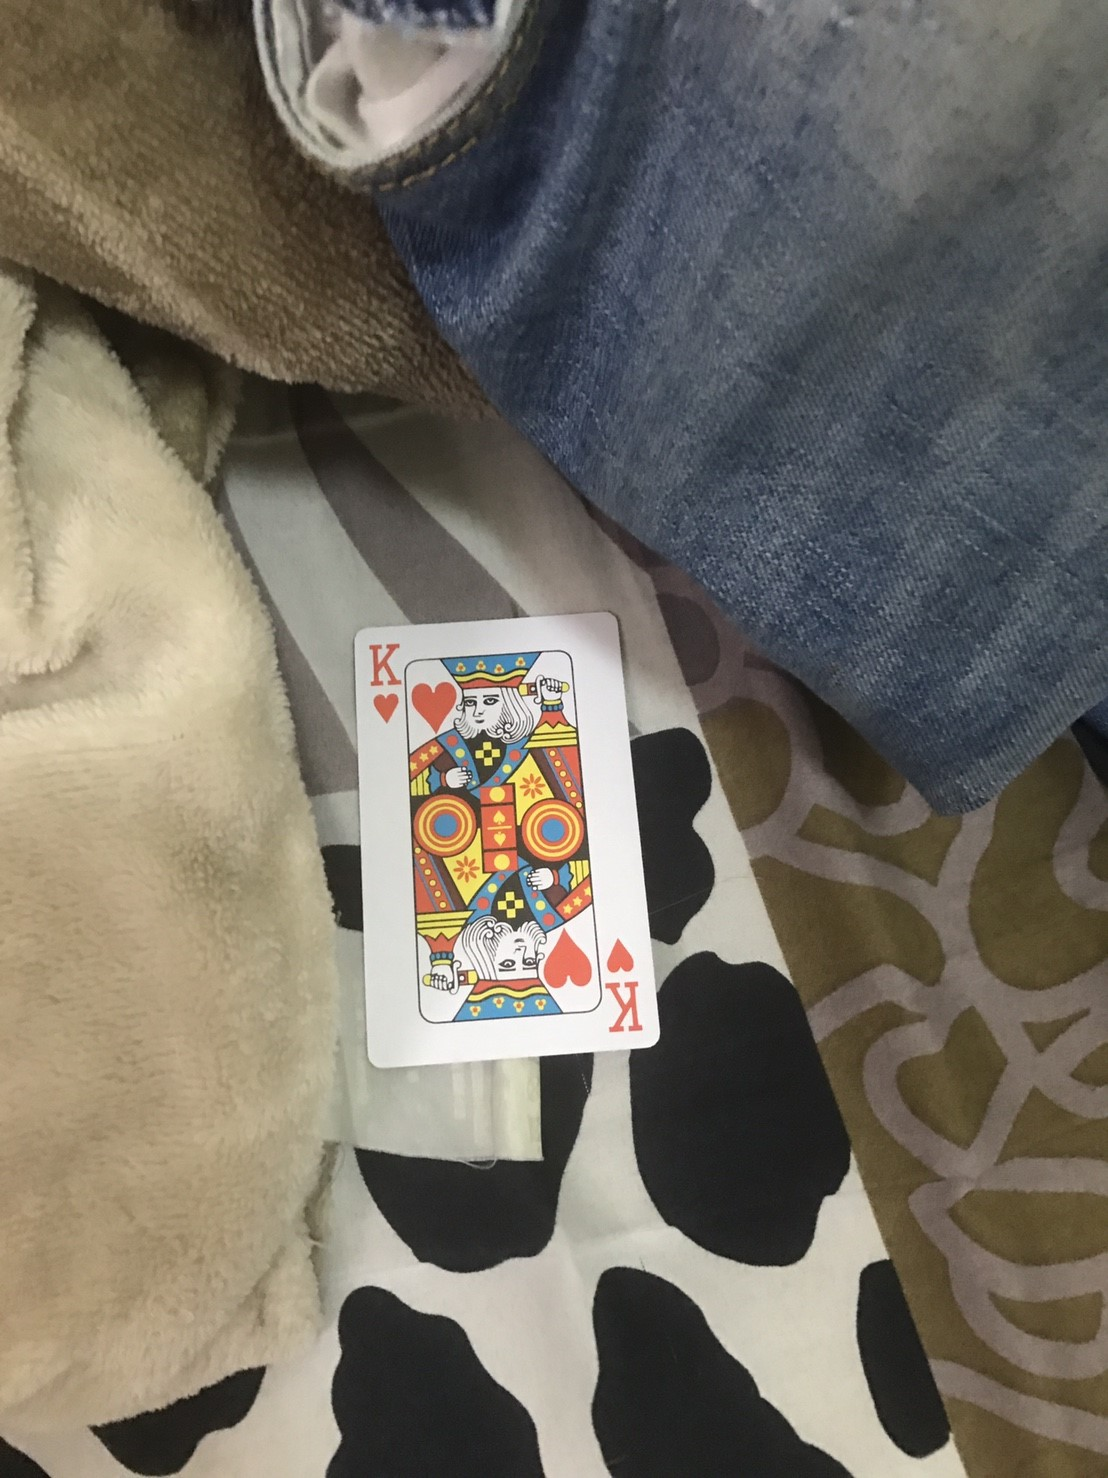hearts: (541, 926, 594, 995), (411, 674, 456, 733), (599, 935, 641, 980), (368, 687, 399, 724)
